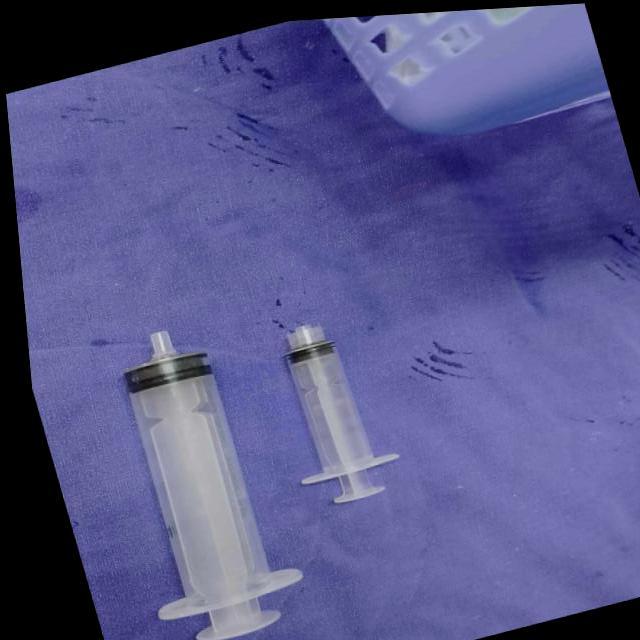Pathological: (5, 4, 639, 638)
Sharps: (122, 329, 302, 639), (281, 322, 401, 504)
